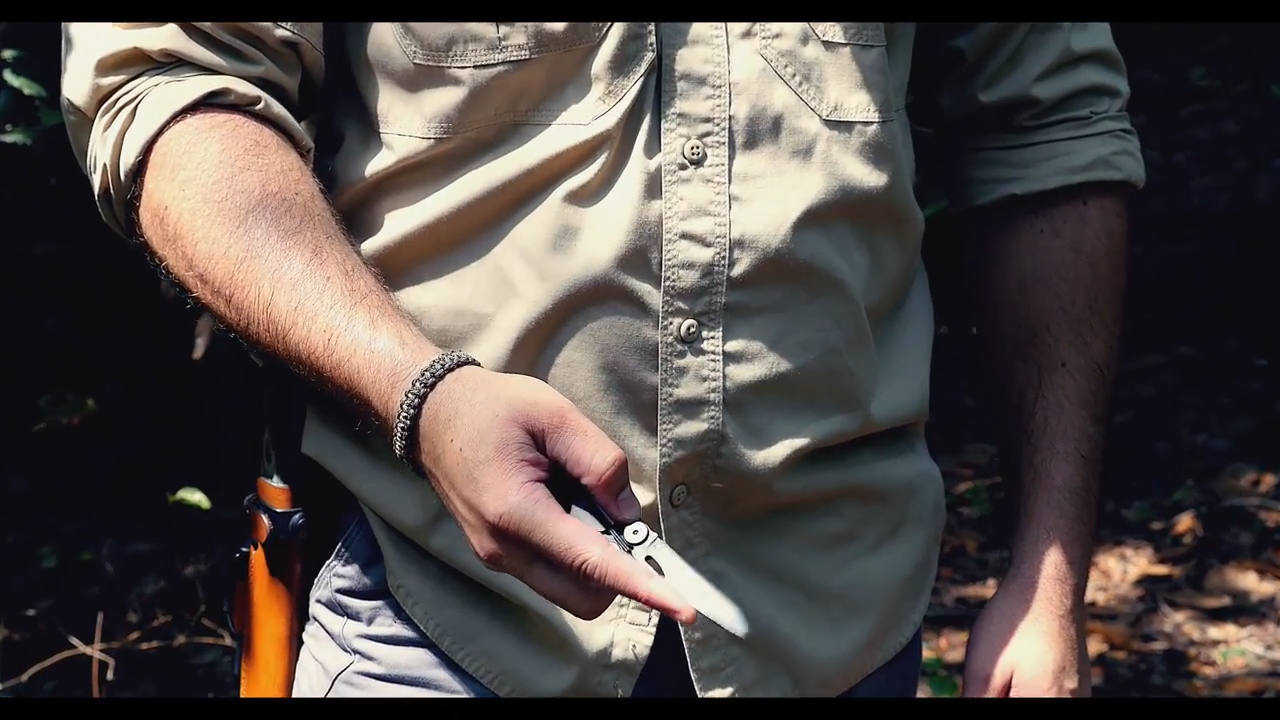knife: (458, 467, 762, 654)
